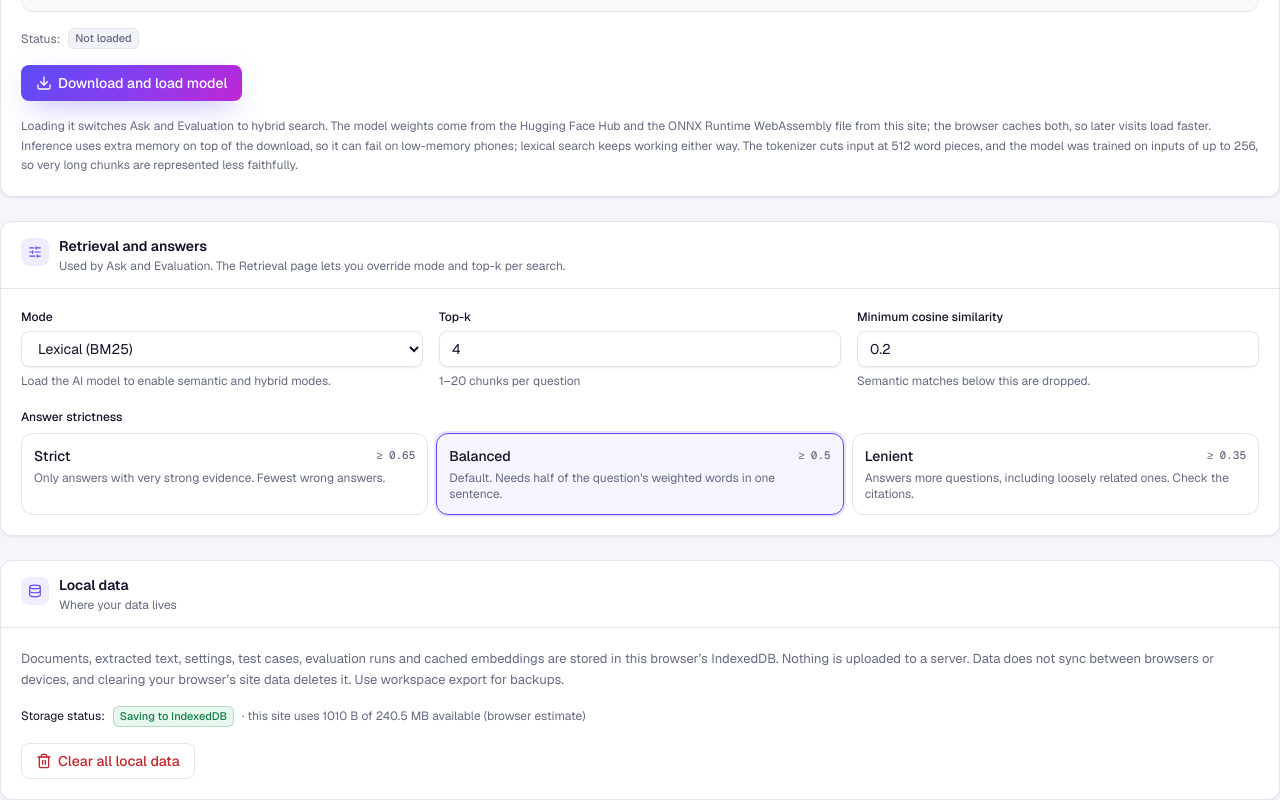
it: SettingsView and the embedding engine › clears local data after confirmation and restores the sample workspace
(page scrolled)
Click the button "Clear all local data" at (108, 761), box x1=21 y1=743 x2=195 y2=779
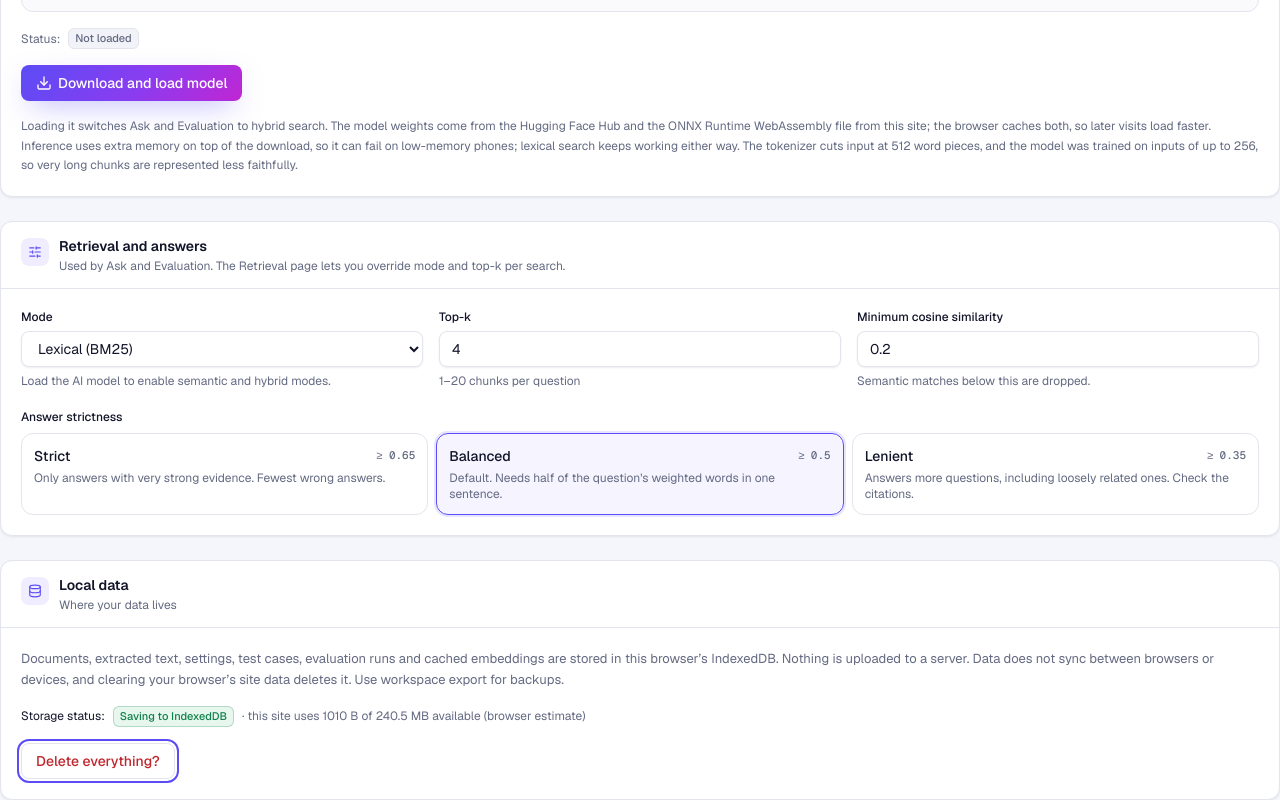
Click the button "Delete everything?" at (98, 761), box x1=21 y1=743 x2=175 y2=779
(page scrolled)
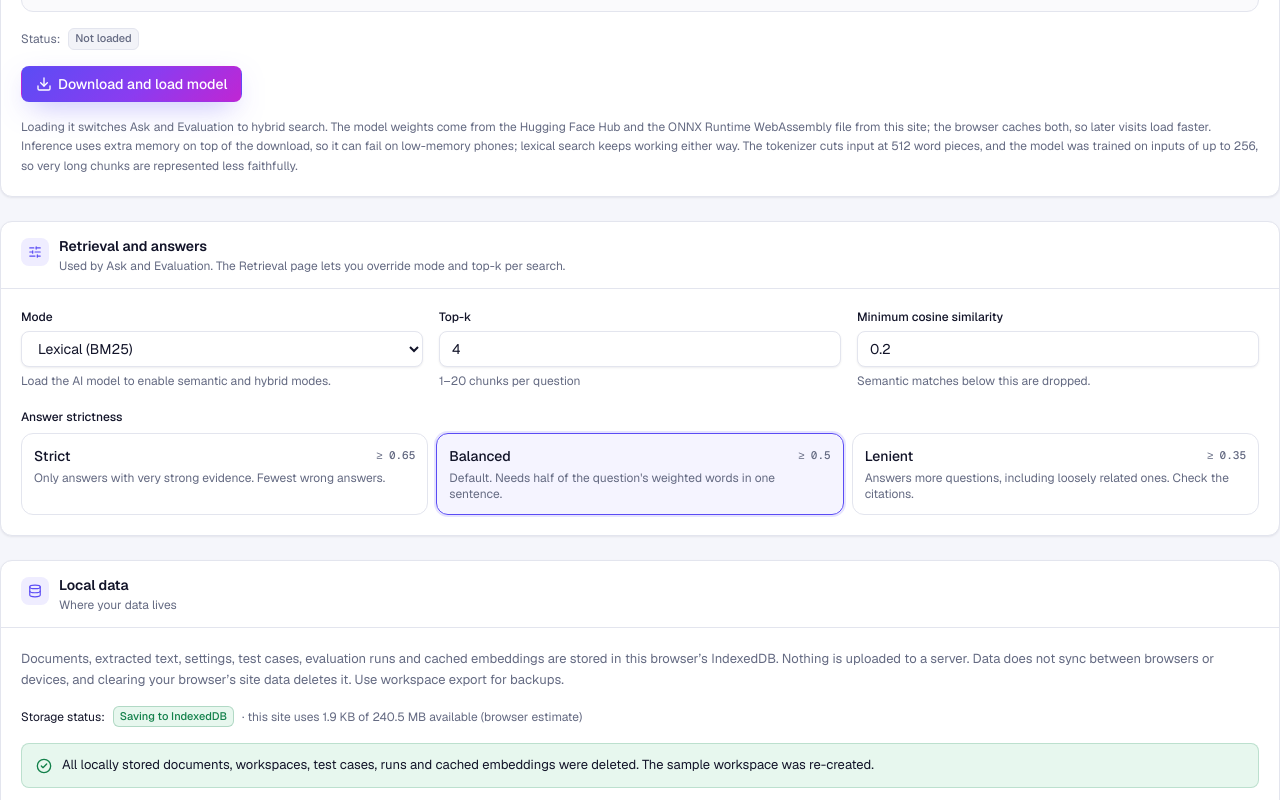
Expected: the text "were deleted" is shown, x1=62 y1=756 x2=874 y2=773
